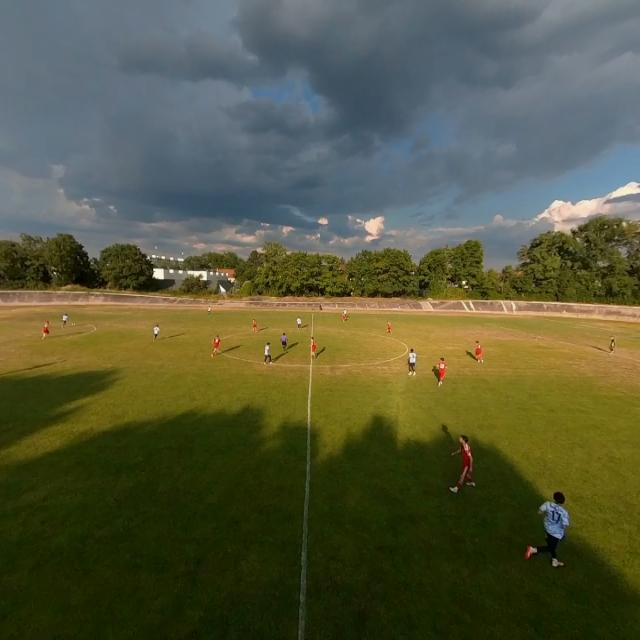ball: (72, 323, 74, 325)
